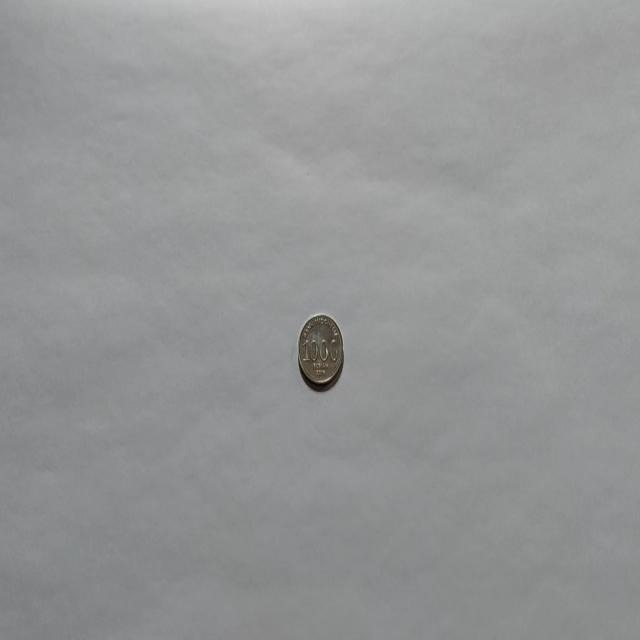seribu rupiah koin: (296, 311, 344, 389)
